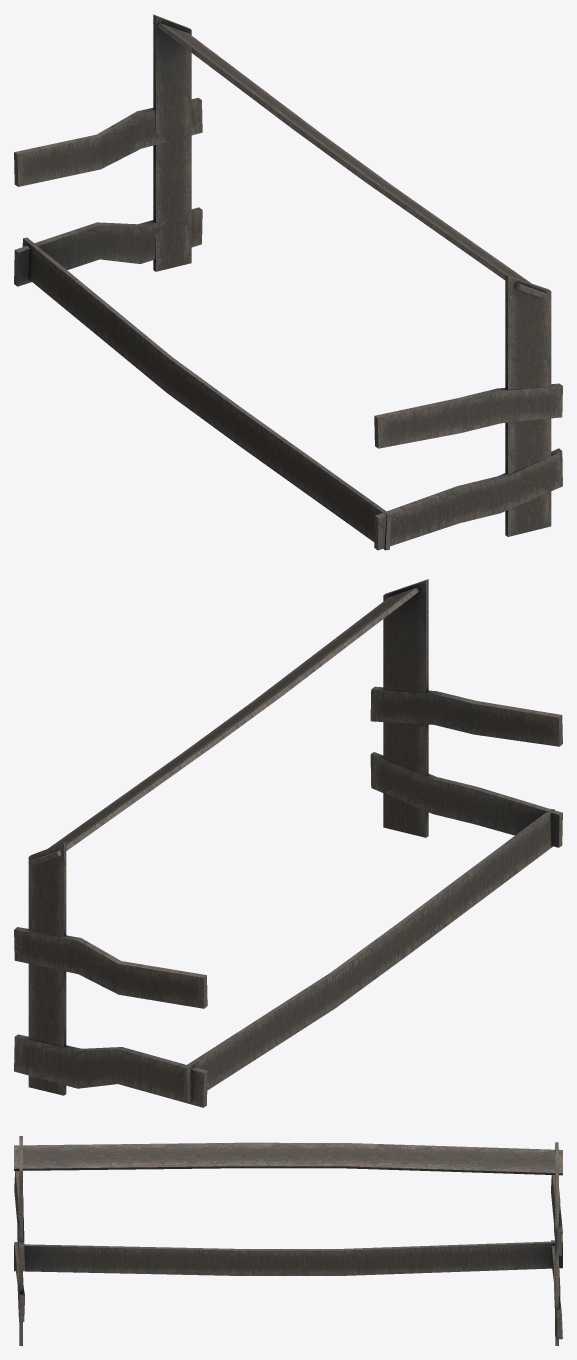
File: Wood.fbx
3 views of the same model, one above another, from view 1: azimuth 30°, elevation 25°; view 2: azimuth 150°, elevation 25°; view 3: azimuth 270°, elevation 25° (orthographic). The views are drawn at different scales.
Visible parts, largest first — view 1: Wood; view 2: Wood; view 3: Wood.
Part boxes in pixels (x1,y1,x2,y2): Wood: (14, 14, 562, 550); Wood: (14, 579, 562, 1107); Wood: (14, 1136, 562, 1345).
Size of the model in its own units: 12.13 by 16.05 by 41.13.
